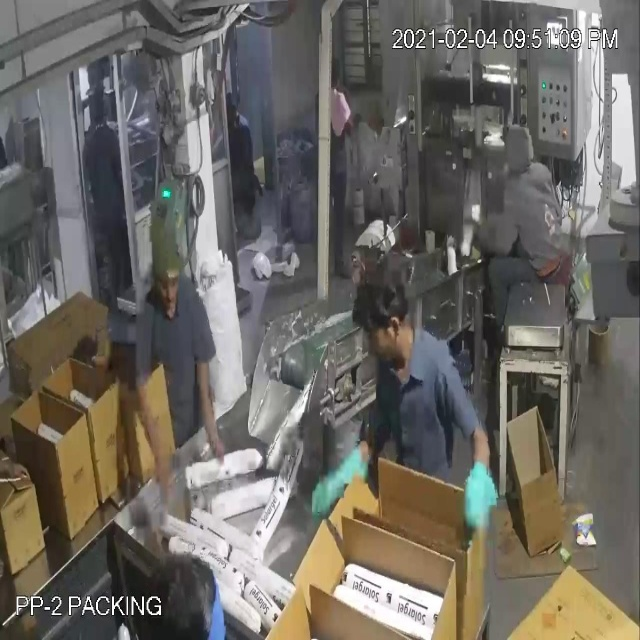Guantes: (302, 443, 378, 526), (459, 444, 503, 547)
Sin_guantes: (122, 363, 182, 498), (192, 335, 232, 471)
